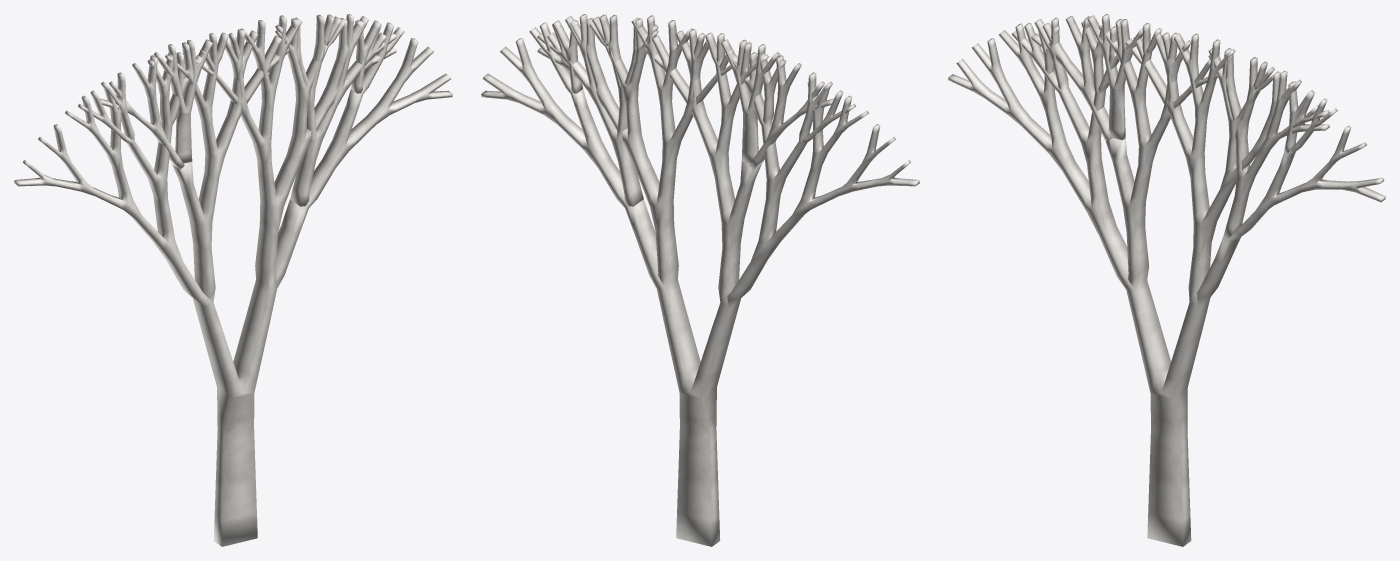
The model's file is coral_abanico.fbx.
3 renders of one model, left to right at view 1: azimuth 30°, elevation 25°; view 2: azimuth 150°, elevation 25°; view 3: azimuth 330°, elevation 25°, orthographic.
Parts seen in each view (by area): view 1: coral_abanico; view 2: coral_abanico; view 3: coral_abanico.
Boxes of the visible parts, x1,y1,x2,y2 form: coral_abanico: [14, 14, 452, 546]; coral_abanico: [481, 14, 919, 546]; coral_abanico: [948, 14, 1385, 546].
Bounding box in the file's own units: 1.22 × 1.37 × 0.0768.
1 material, 1 textured.
